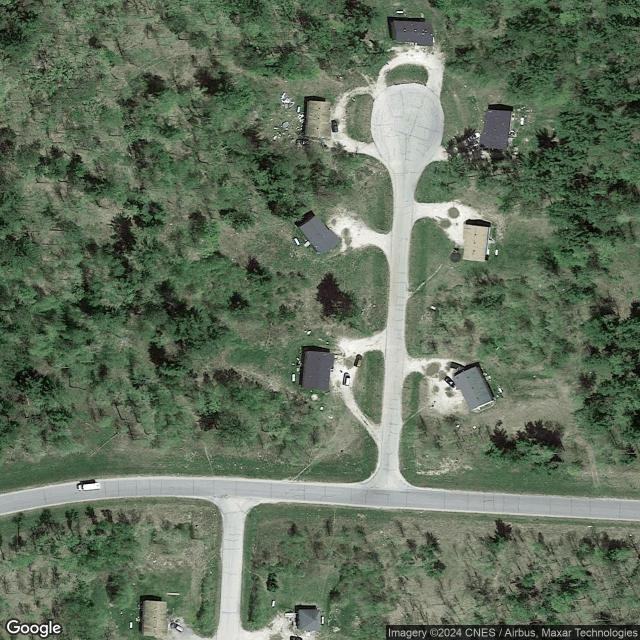Propane: (293, 236, 300, 247), (295, 104, 301, 114), (395, 9, 404, 15), (271, 599, 276, 608), (291, 373, 295, 384), (321, 615, 325, 625), (129, 621, 133, 630), (520, 117, 524, 126), (495, 248, 499, 256), (432, 36, 435, 44)
